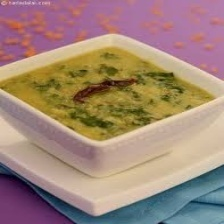dal: (0, 42, 220, 145)
